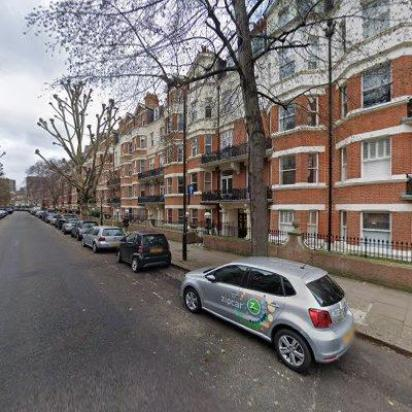stationary-car-onstreet: (179, 256, 358, 374), (116, 229, 170, 272), (81, 223, 125, 252), (70, 221, 98, 239), (56, 212, 76, 230), (62, 217, 80, 234), (49, 213, 63, 225), (1, 209, 6, 219)
